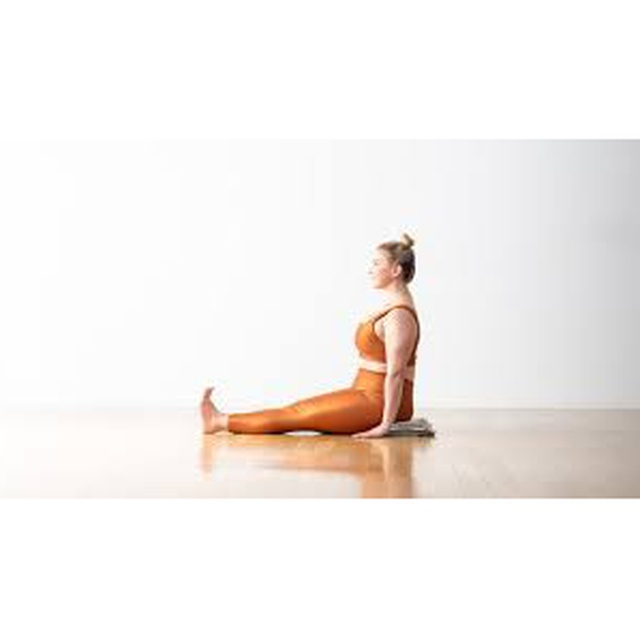Staff_Pose: (199, 233, 422, 440)
